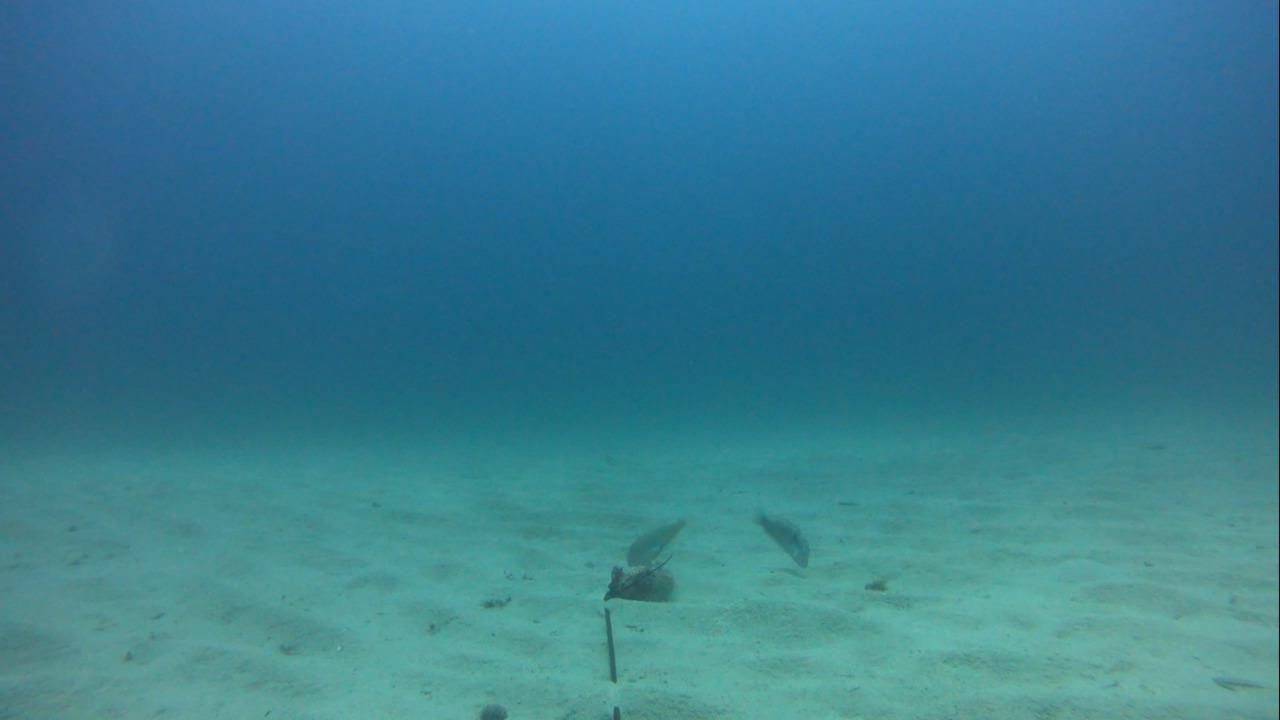raor: (621, 514, 691, 572), (747, 506, 813, 566)
